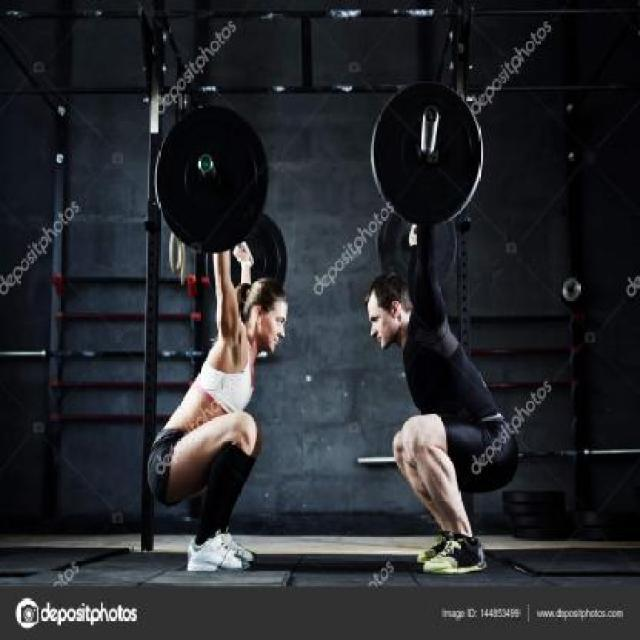Barbell: (196, 152, 217, 174), (423, 104, 440, 125)
